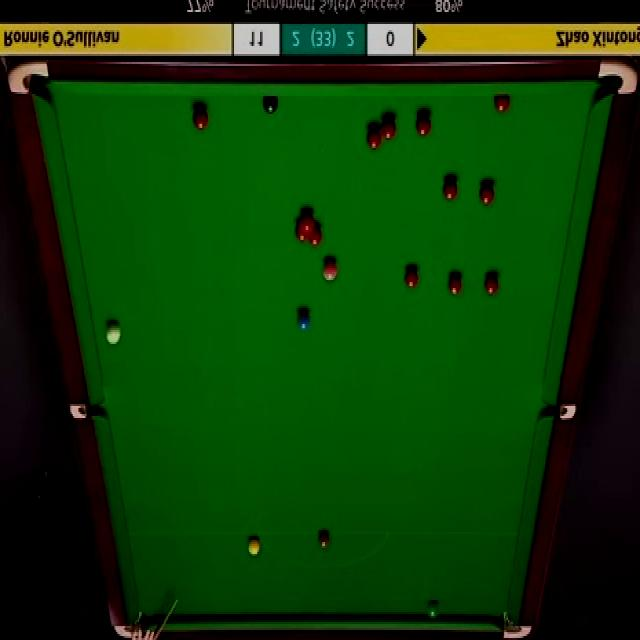black-ball: (262, 94, 280, 115)
blue-ball: (296, 311, 312, 332)
brown-ball: (318, 532, 330, 552)
green-ball: (426, 600, 439, 618)
pink-ball: (322, 256, 339, 281)
red-ball: (442, 176, 460, 202), (381, 114, 397, 143), (191, 105, 208, 132), (401, 266, 419, 291), (415, 110, 432, 136), (366, 124, 382, 150), (479, 182, 496, 206), (448, 273, 464, 296), (484, 271, 498, 296), (294, 218, 308, 242), (309, 222, 322, 246), (493, 97, 511, 114), (300, 210, 316, 229)
white-ball: (106, 320, 123, 347)
yellow-ball: (247, 538, 259, 554)
